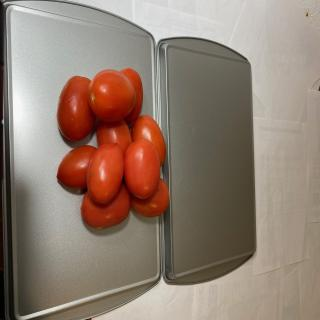Chilli: (56, 67, 170, 230)
Tomato: (56, 75, 96, 141), (87, 69, 136, 122), (80, 182, 130, 230), (86, 143, 124, 204), (124, 139, 160, 199), (56, 144, 97, 190), (131, 115, 166, 167), (130, 178, 170, 218), (119, 68, 143, 124), (96, 119, 132, 156)
